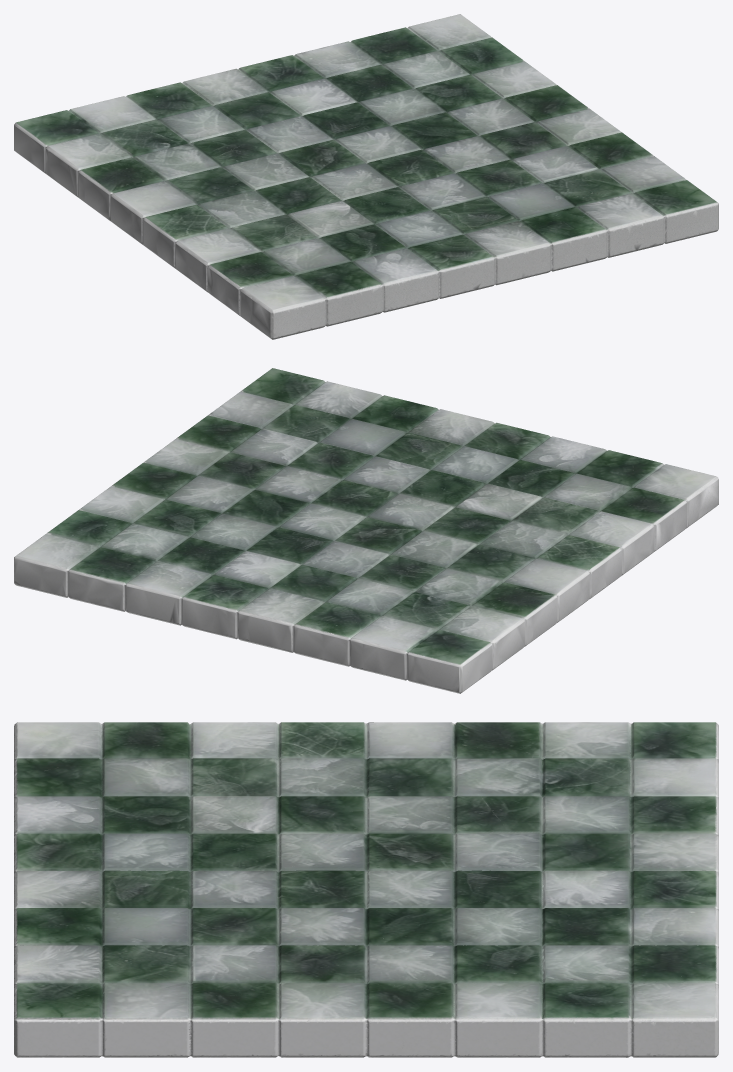
The model's file is jade2-board.glb.
The picture shows the model from 3 angles, top to bottom: view 1: azimuth 30°, elevation 25°; view 2: azimuth 150°, elevation 25°; view 3: azimuth 270°, elevation 25°; orthographic projection. The views are drawn at different scales.
Visible parts, largest first — view 1: mesh_node; view 2: mesh_node; view 3: mesh_node.
Boxes of the visible parts, box(x1,y1,x2,y2) form: mesh_node: box(14, 14, 718, 339); mesh_node: box(14, 368, 718, 693); mesh_node: box(14, 722, 718, 1057).
Size of the model in its own units: 1.9 by 0.1221 by 1.9.
Materials: 1 (1 with a texture image).
